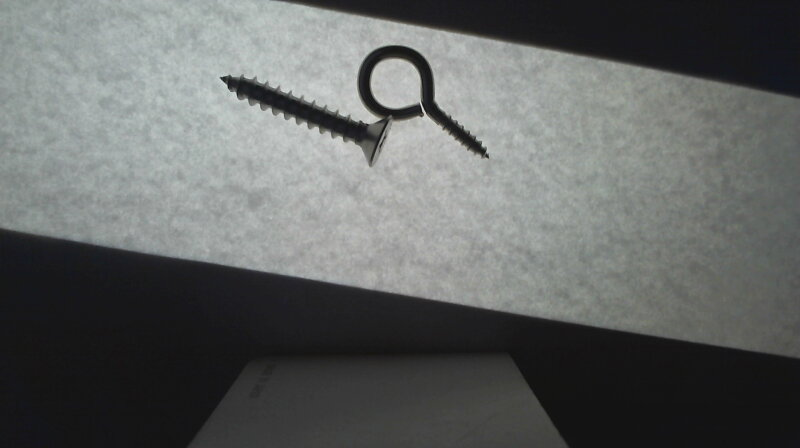O001: (359, 44, 491, 160)
S001: (213, 72, 399, 167)
